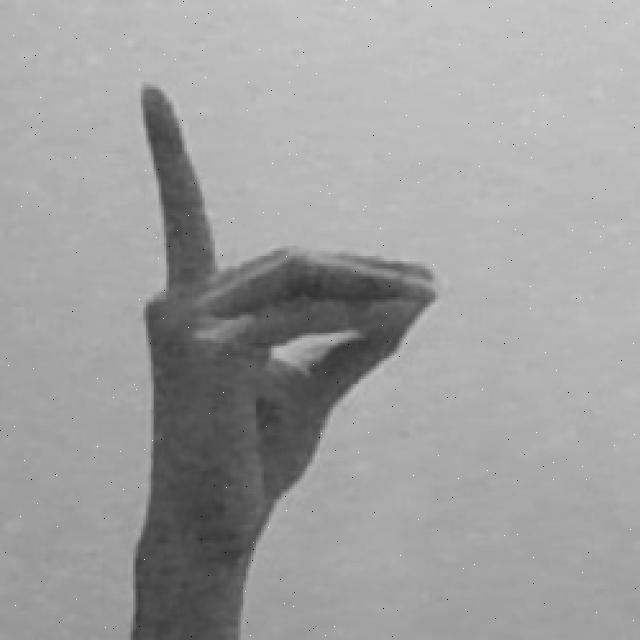D: (120, 79, 443, 640)
